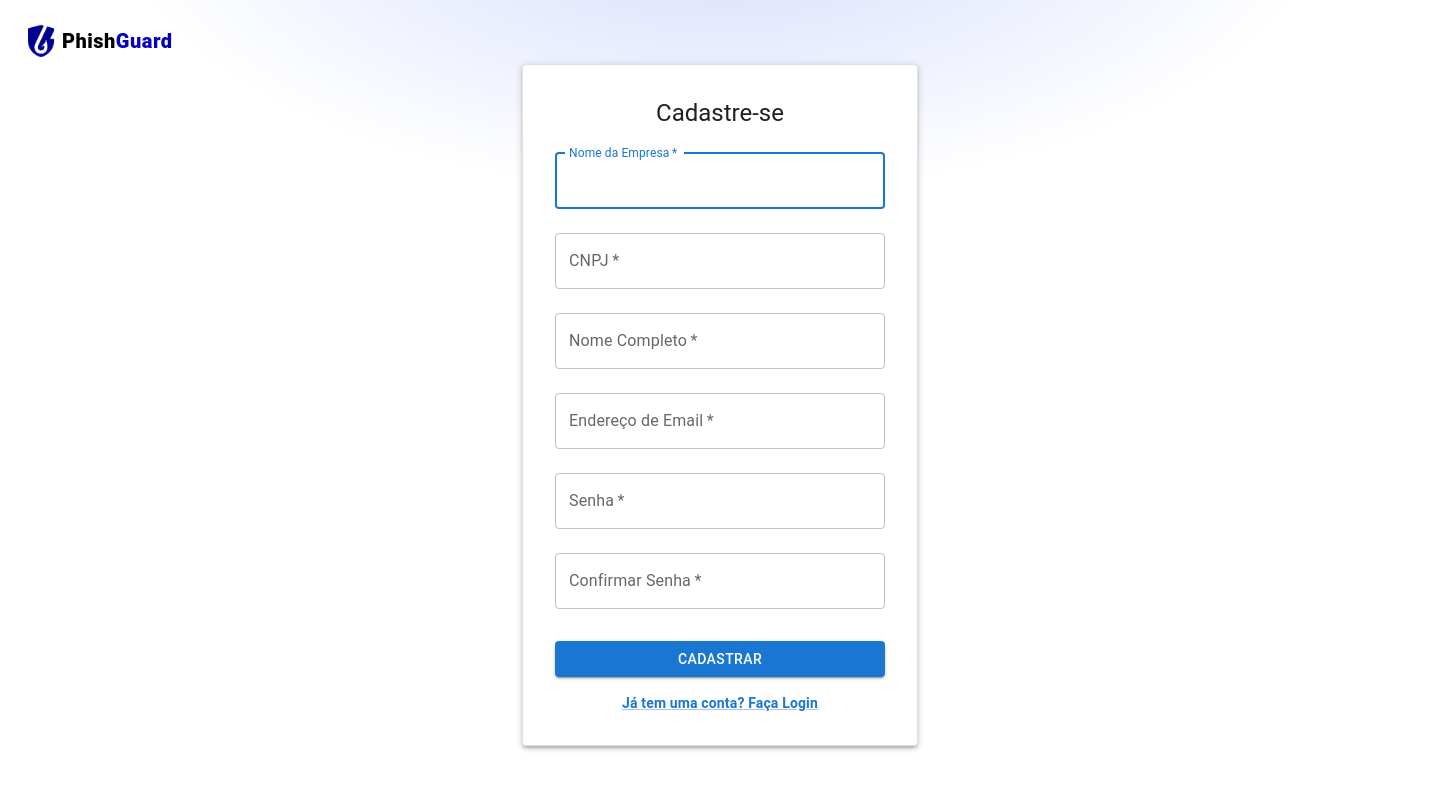
Test case: Register — falhas da API › exibe a mensagem segura de conflito retornada pela API
Type "Empresa Teste" into the field labelled "Nome da Empresa *". click: (720, 181)
box: left=555, top=153, right=885, bottom=209
Type "12345678000199" into the field labelled "CNPJ *". click: (720, 261)
box: left=555, top=233, right=885, bottom=289
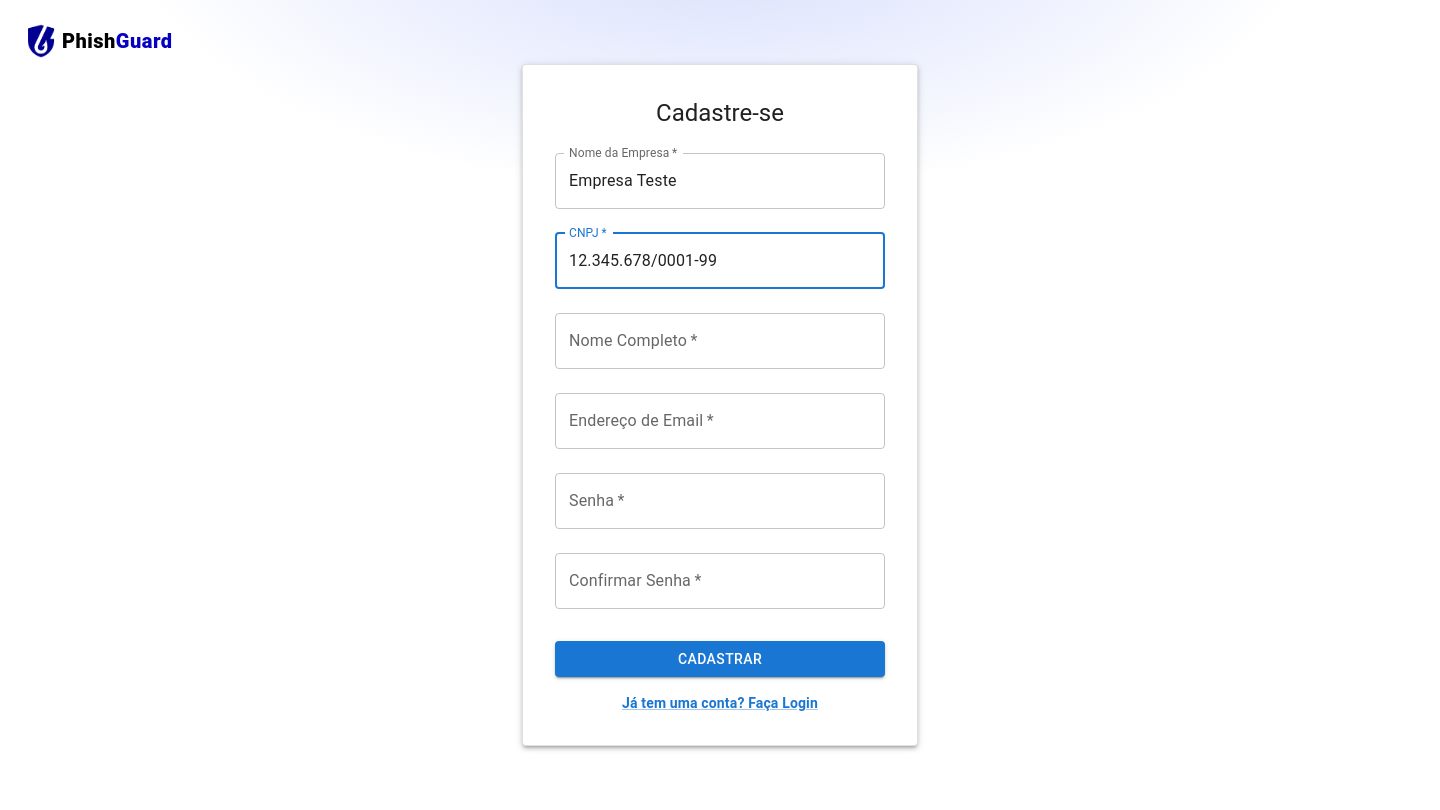
Type "Fulano de Tal" into the field labelled "Nome Completo *". click: (720, 341)
box: left=555, top=313, right=885, bottom=369
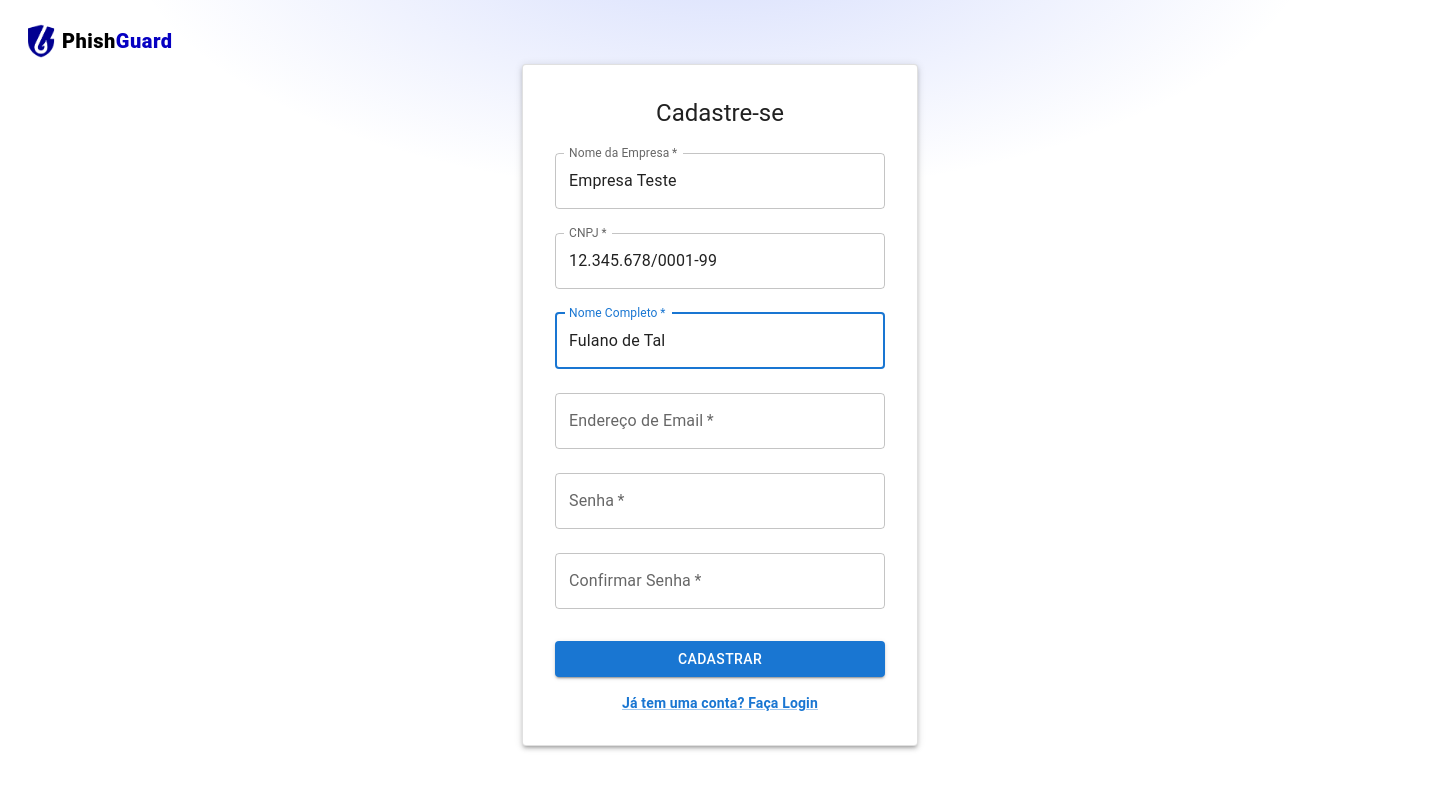
Type "fulano@teste.com" into the field labelled "Endereço de Email *". click: (720, 421)
box: left=555, top=393, right=885, bottom=449
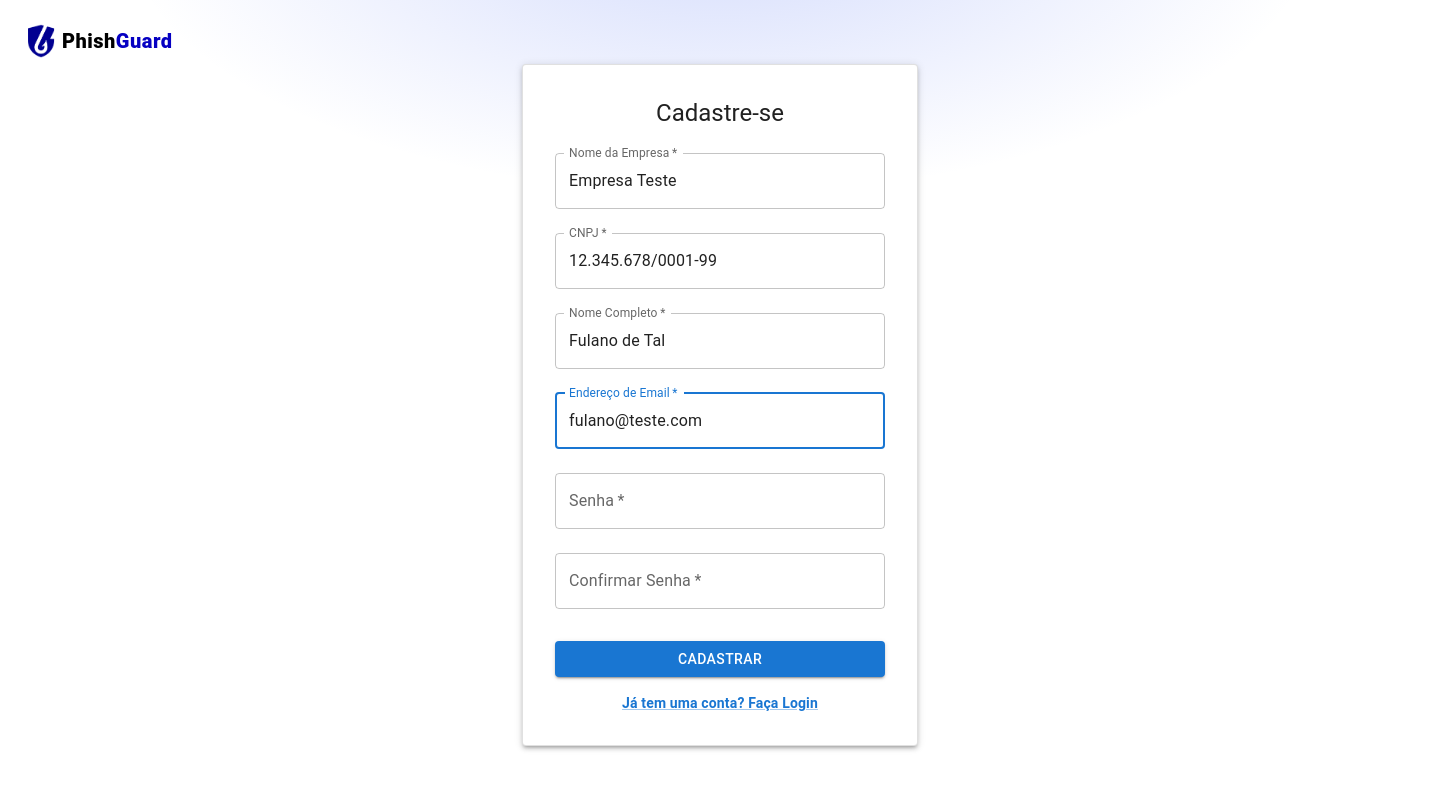
Type "senha123" into the password field labelled "Senha *". click: (720, 501)
box: left=555, top=473, right=885, bottom=529
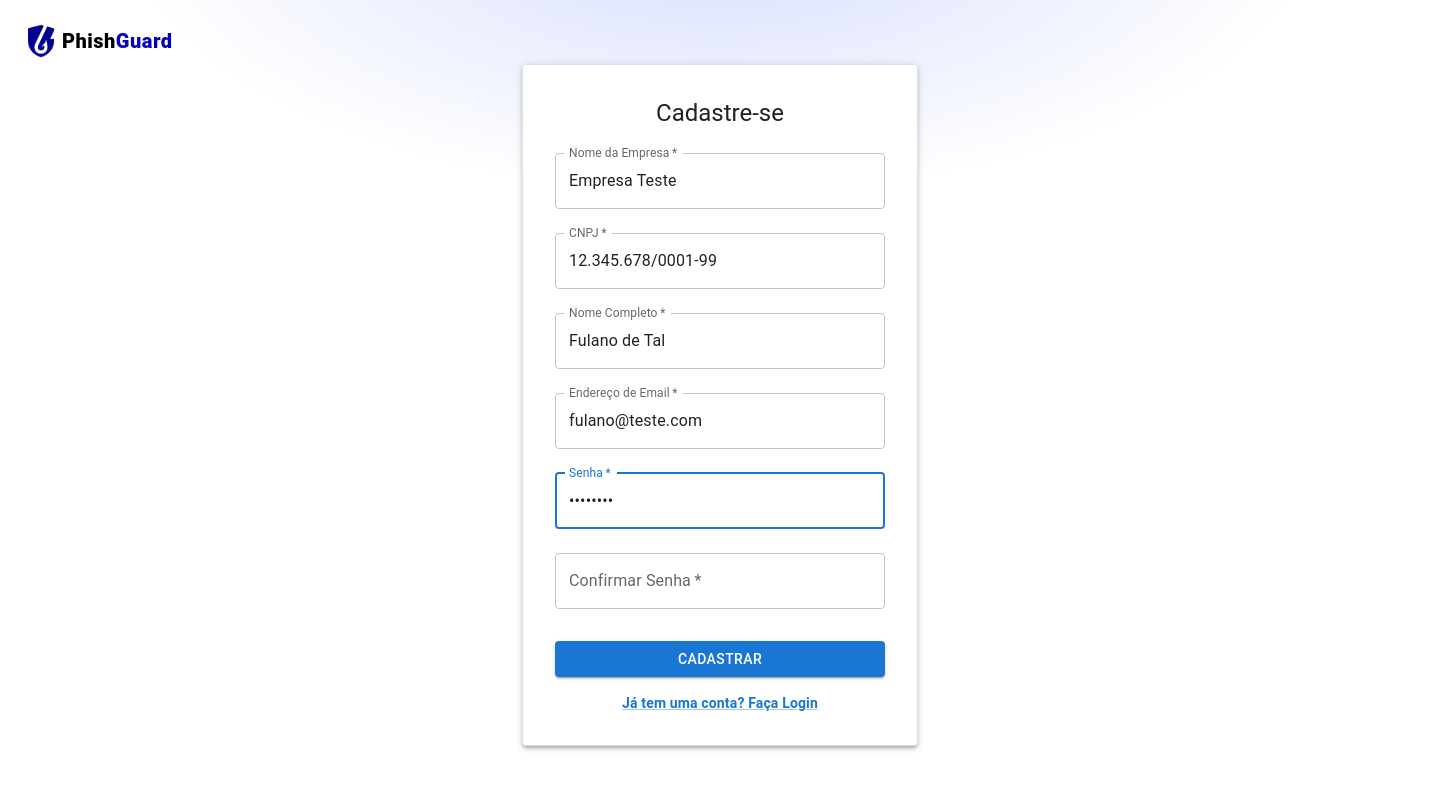
Type "senha123" into the password field labelled "Confirmar Senha *". click: (720, 581)
box: left=555, top=553, right=885, bottom=609
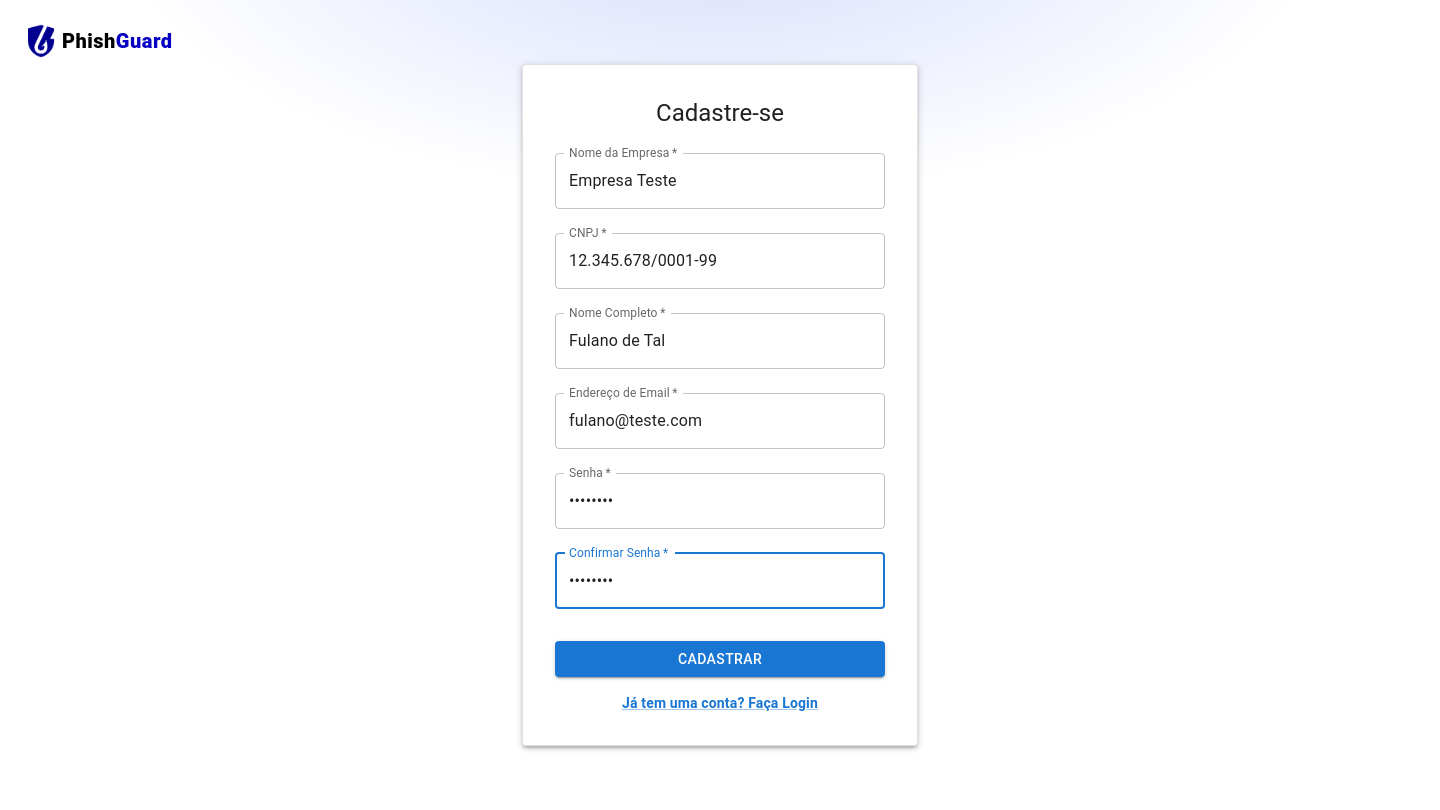
Click the button "CADASTRAR". click: click(720, 659)
box: left=555, top=641, right=885, bottom=677
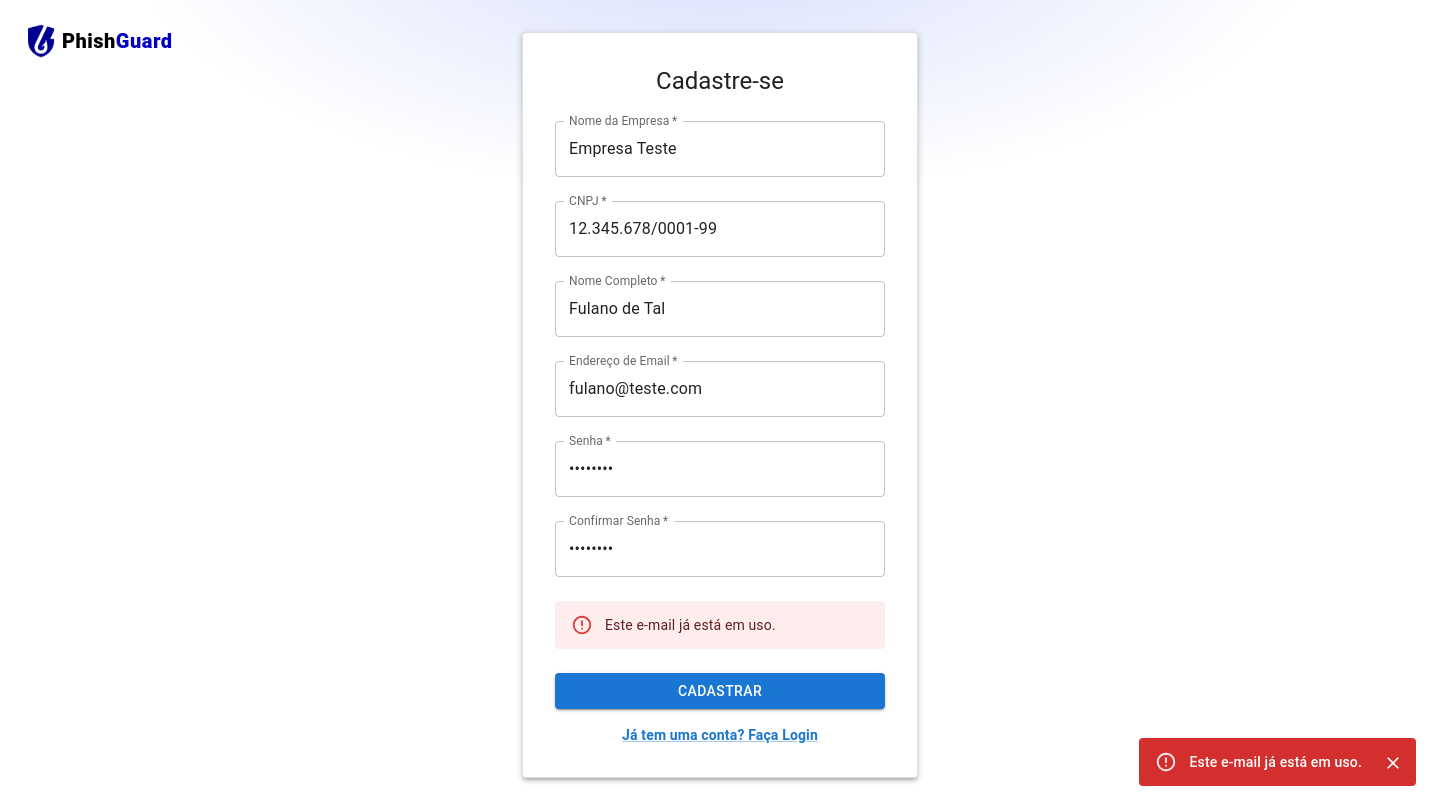
Expected: the text "Este e-mail já está em uso." below "Confirmar Senha" is shown, left=605, top=617, right=776, bottom=633
